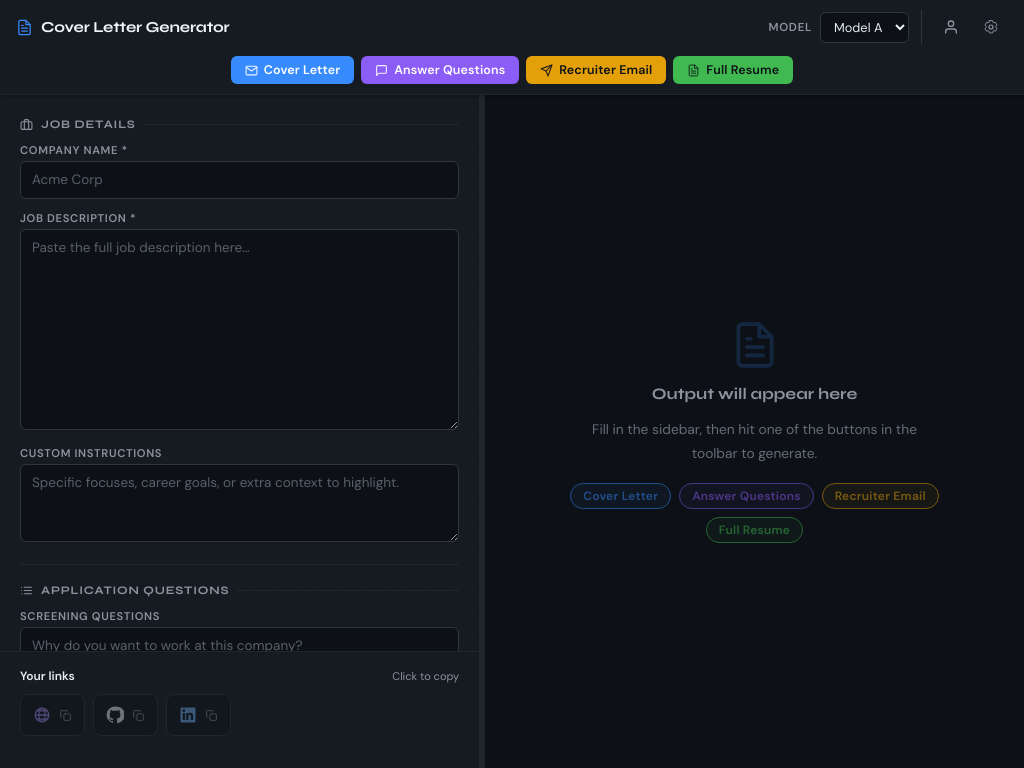
Test: App AI workflows › omits the recruiting email heading while retaining the copy action
In the field labelled "Company Name *": (240, 180) [20,161,459,199], type "Example Corp"
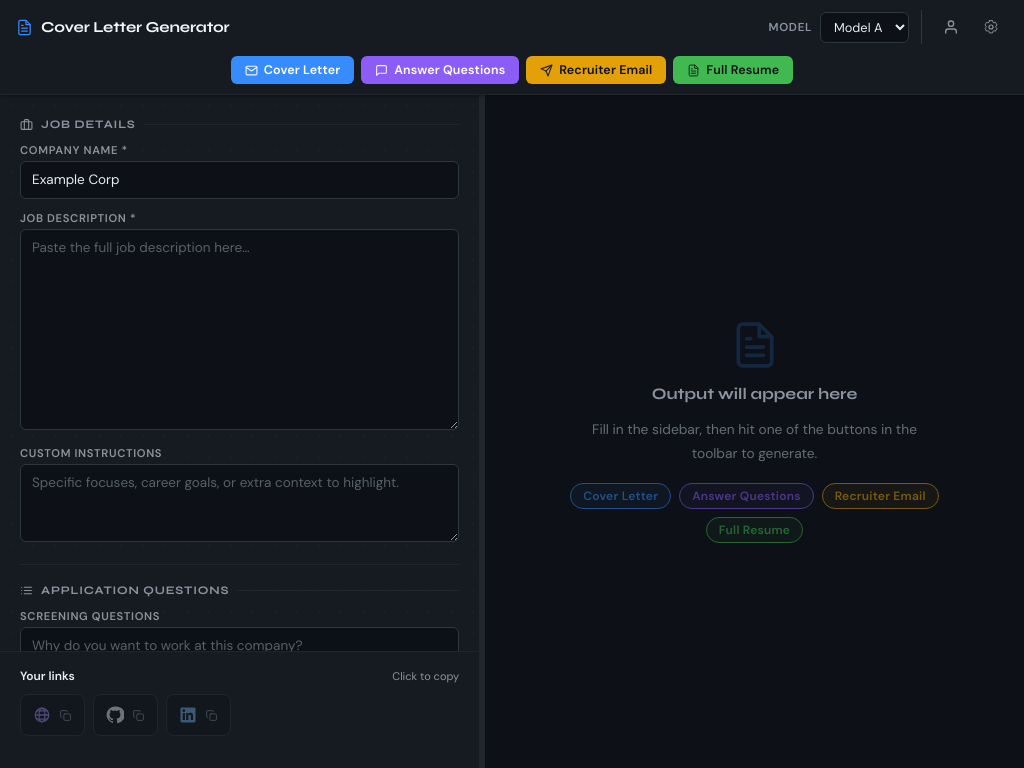
In the text box labelled "Job Description *": (240, 329) [20,229,459,430], type "Build reliable AI systems."
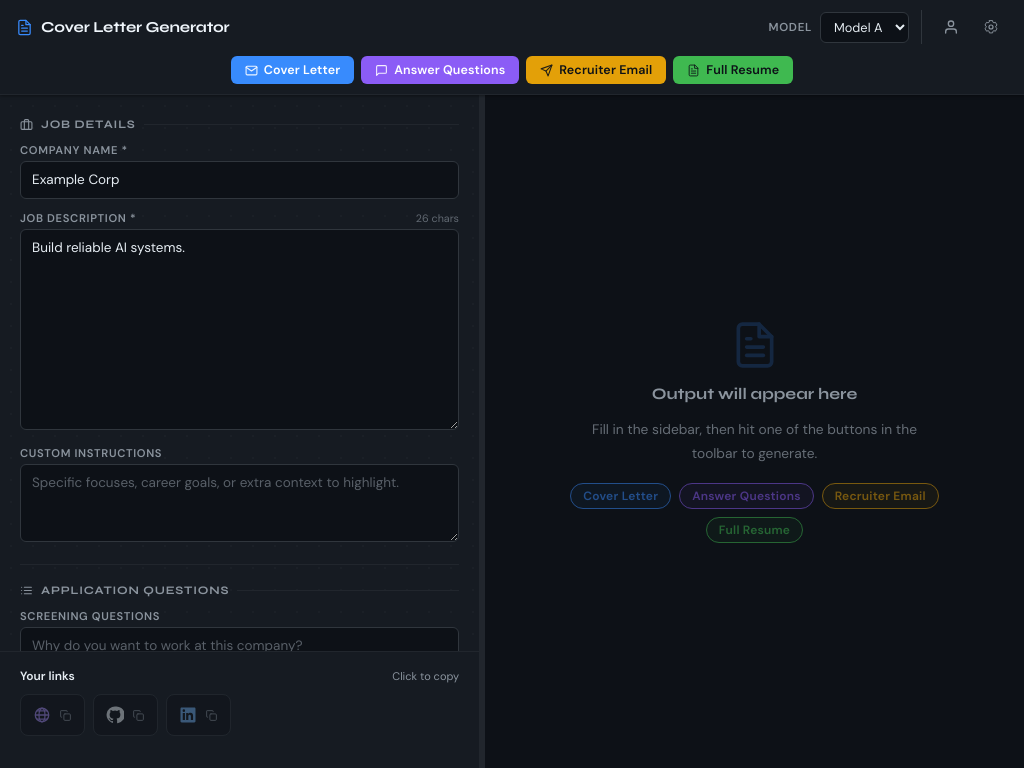
Click the button titled "Draft an email to the recruiting team": (596, 70) [526,56,666,84]
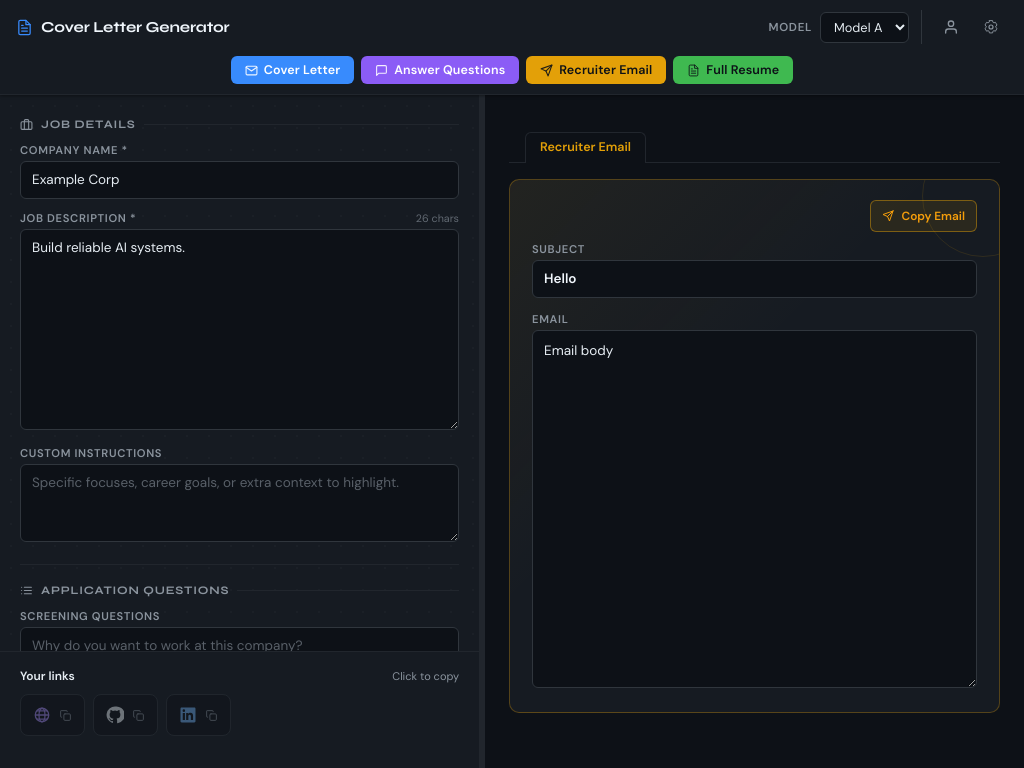
Check: the button titled "Copy subject and email body" is shown, box [870,200,977,232]
